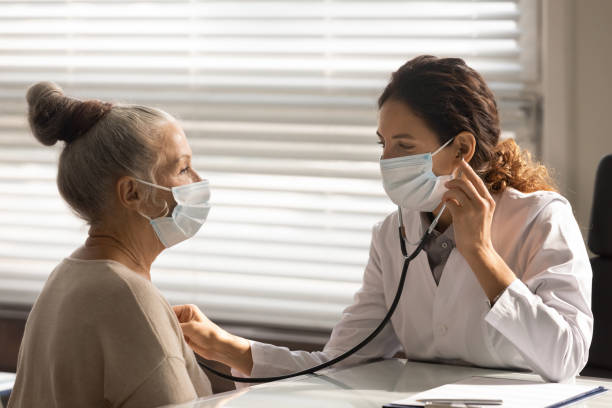with mask: (373, 67, 490, 219), (88, 112, 213, 252)
